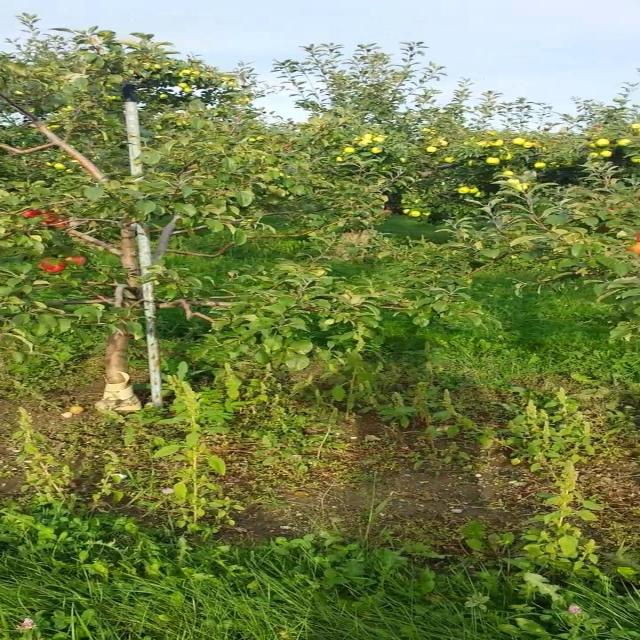apple: (42, 260, 64, 273), (63, 256, 85, 265), (20, 212, 41, 220), (42, 216, 59, 224), (56, 224, 71, 228)
